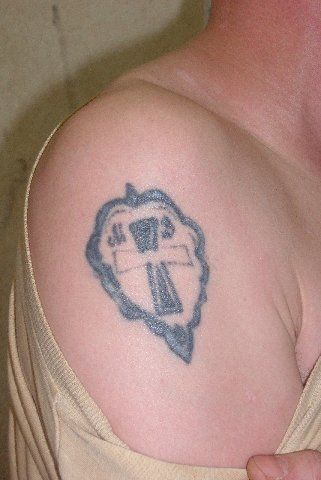tatu9_krest: (117, 220, 206, 315)
